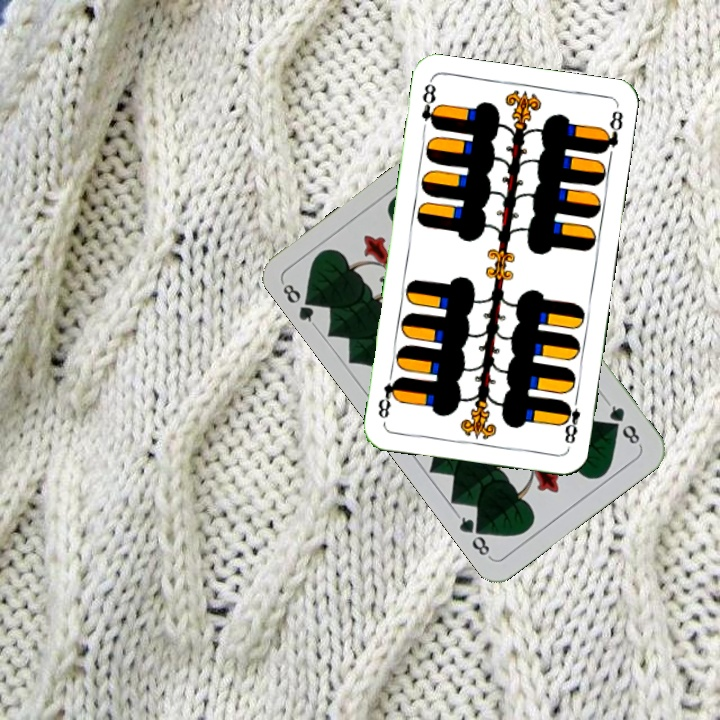E8: (558, 391, 583, 446), (417, 78, 442, 132)
G8: (278, 278, 321, 330), (603, 398, 644, 449)
